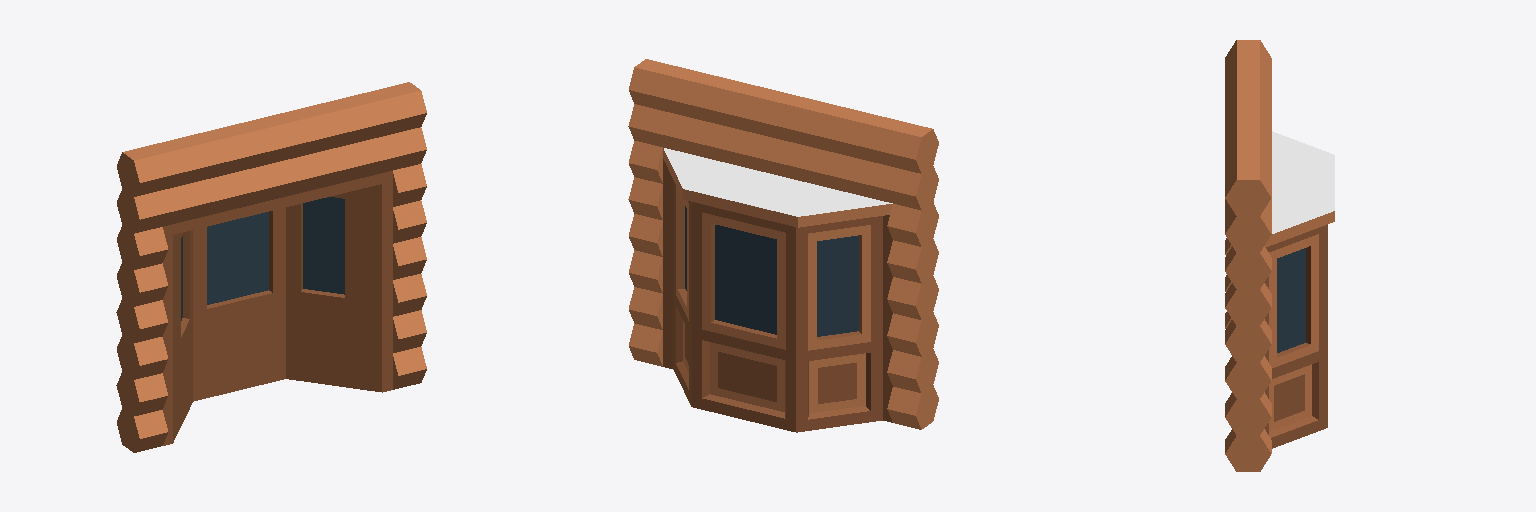
The model's file is cabinWindowLarge.obj.
The picture shows the model from 3 angles: view 1: azimuth 30°, elevation 25°; view 2: azimuth 150°, elevation 25°; view 3: azimuth 270°, elevation 25°; orthographic projection.
Visible parts, largest first — view 1: frame, cabinWindowLarge; view 2: frame, cabinWindowLarge; view 3: cabinWindowLarge, frame.
Part boxes in pixels (x1,y1,x2,y2): frame: (163,171,392,445); cabinWindowLarge: (116,82,426,452); frame: (663,148,892,432); cabinWindowLarge: (628,59,938,429); cabinWindowLarge: (1225,40,1271,471); frame: (1264,131,1334,448).
Bounding box in the file's own units: 1 × 0.9727 × 0.3311.